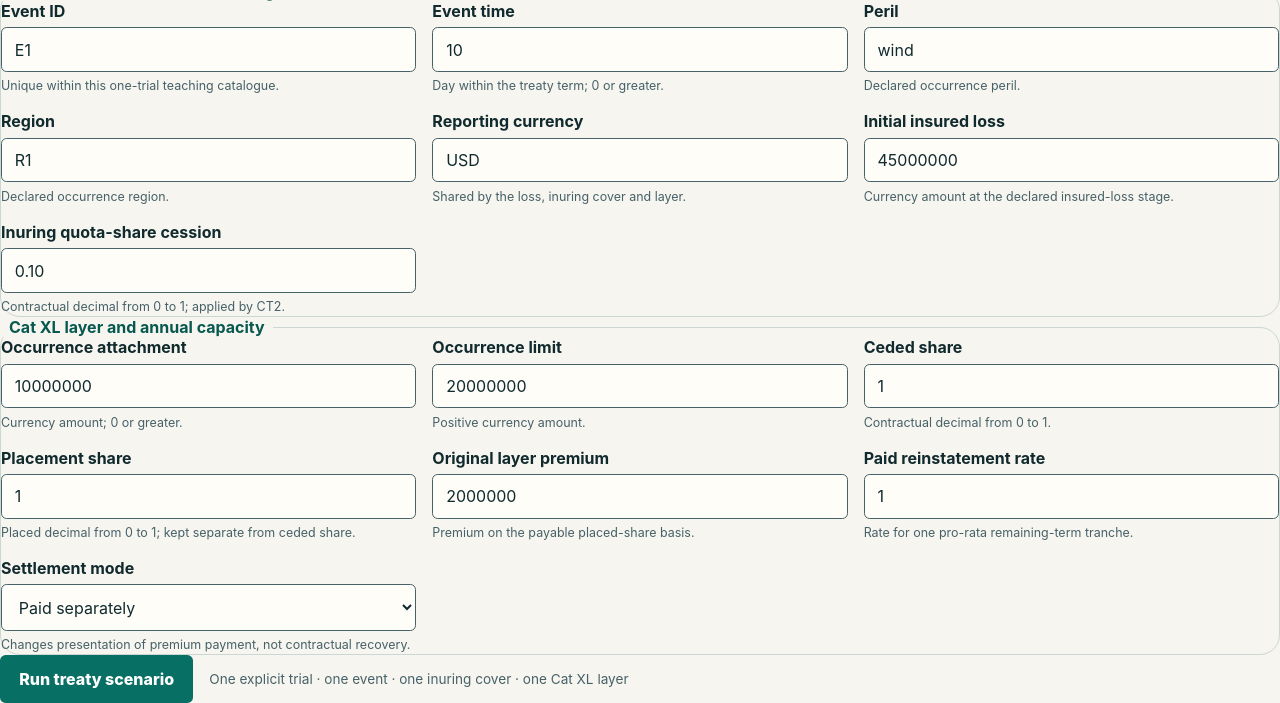
it: safe error-state presentation › distinguishes offline transport without fabricating a problem
The width and height of the screenshot is (1280, 703).
(page scrolled)
Click the button "Run treaty scenario".
click(97, 679)  # box [0,655,193,702]
(page scrolled)
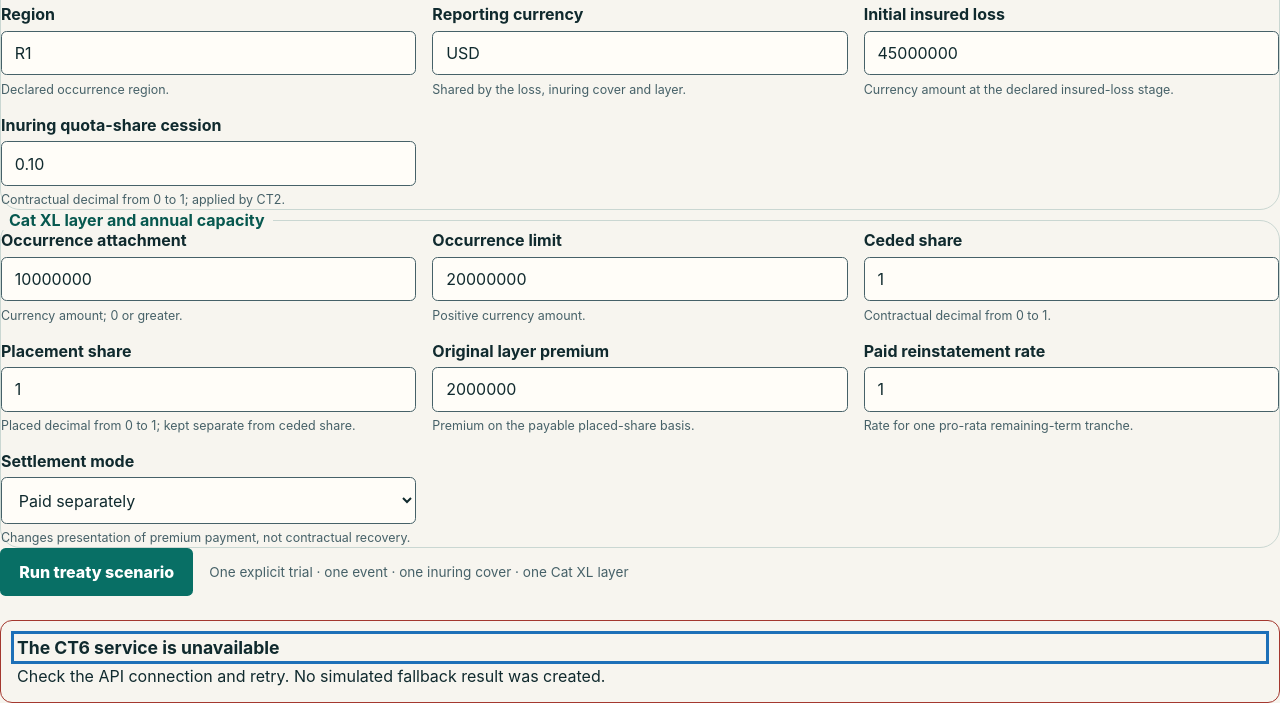
Now the heading "The CT6 service is unavailable" is shown, box [17,637,280,658]
Now the text "No simulated fallback result" is shown, box [17,666,605,686]
